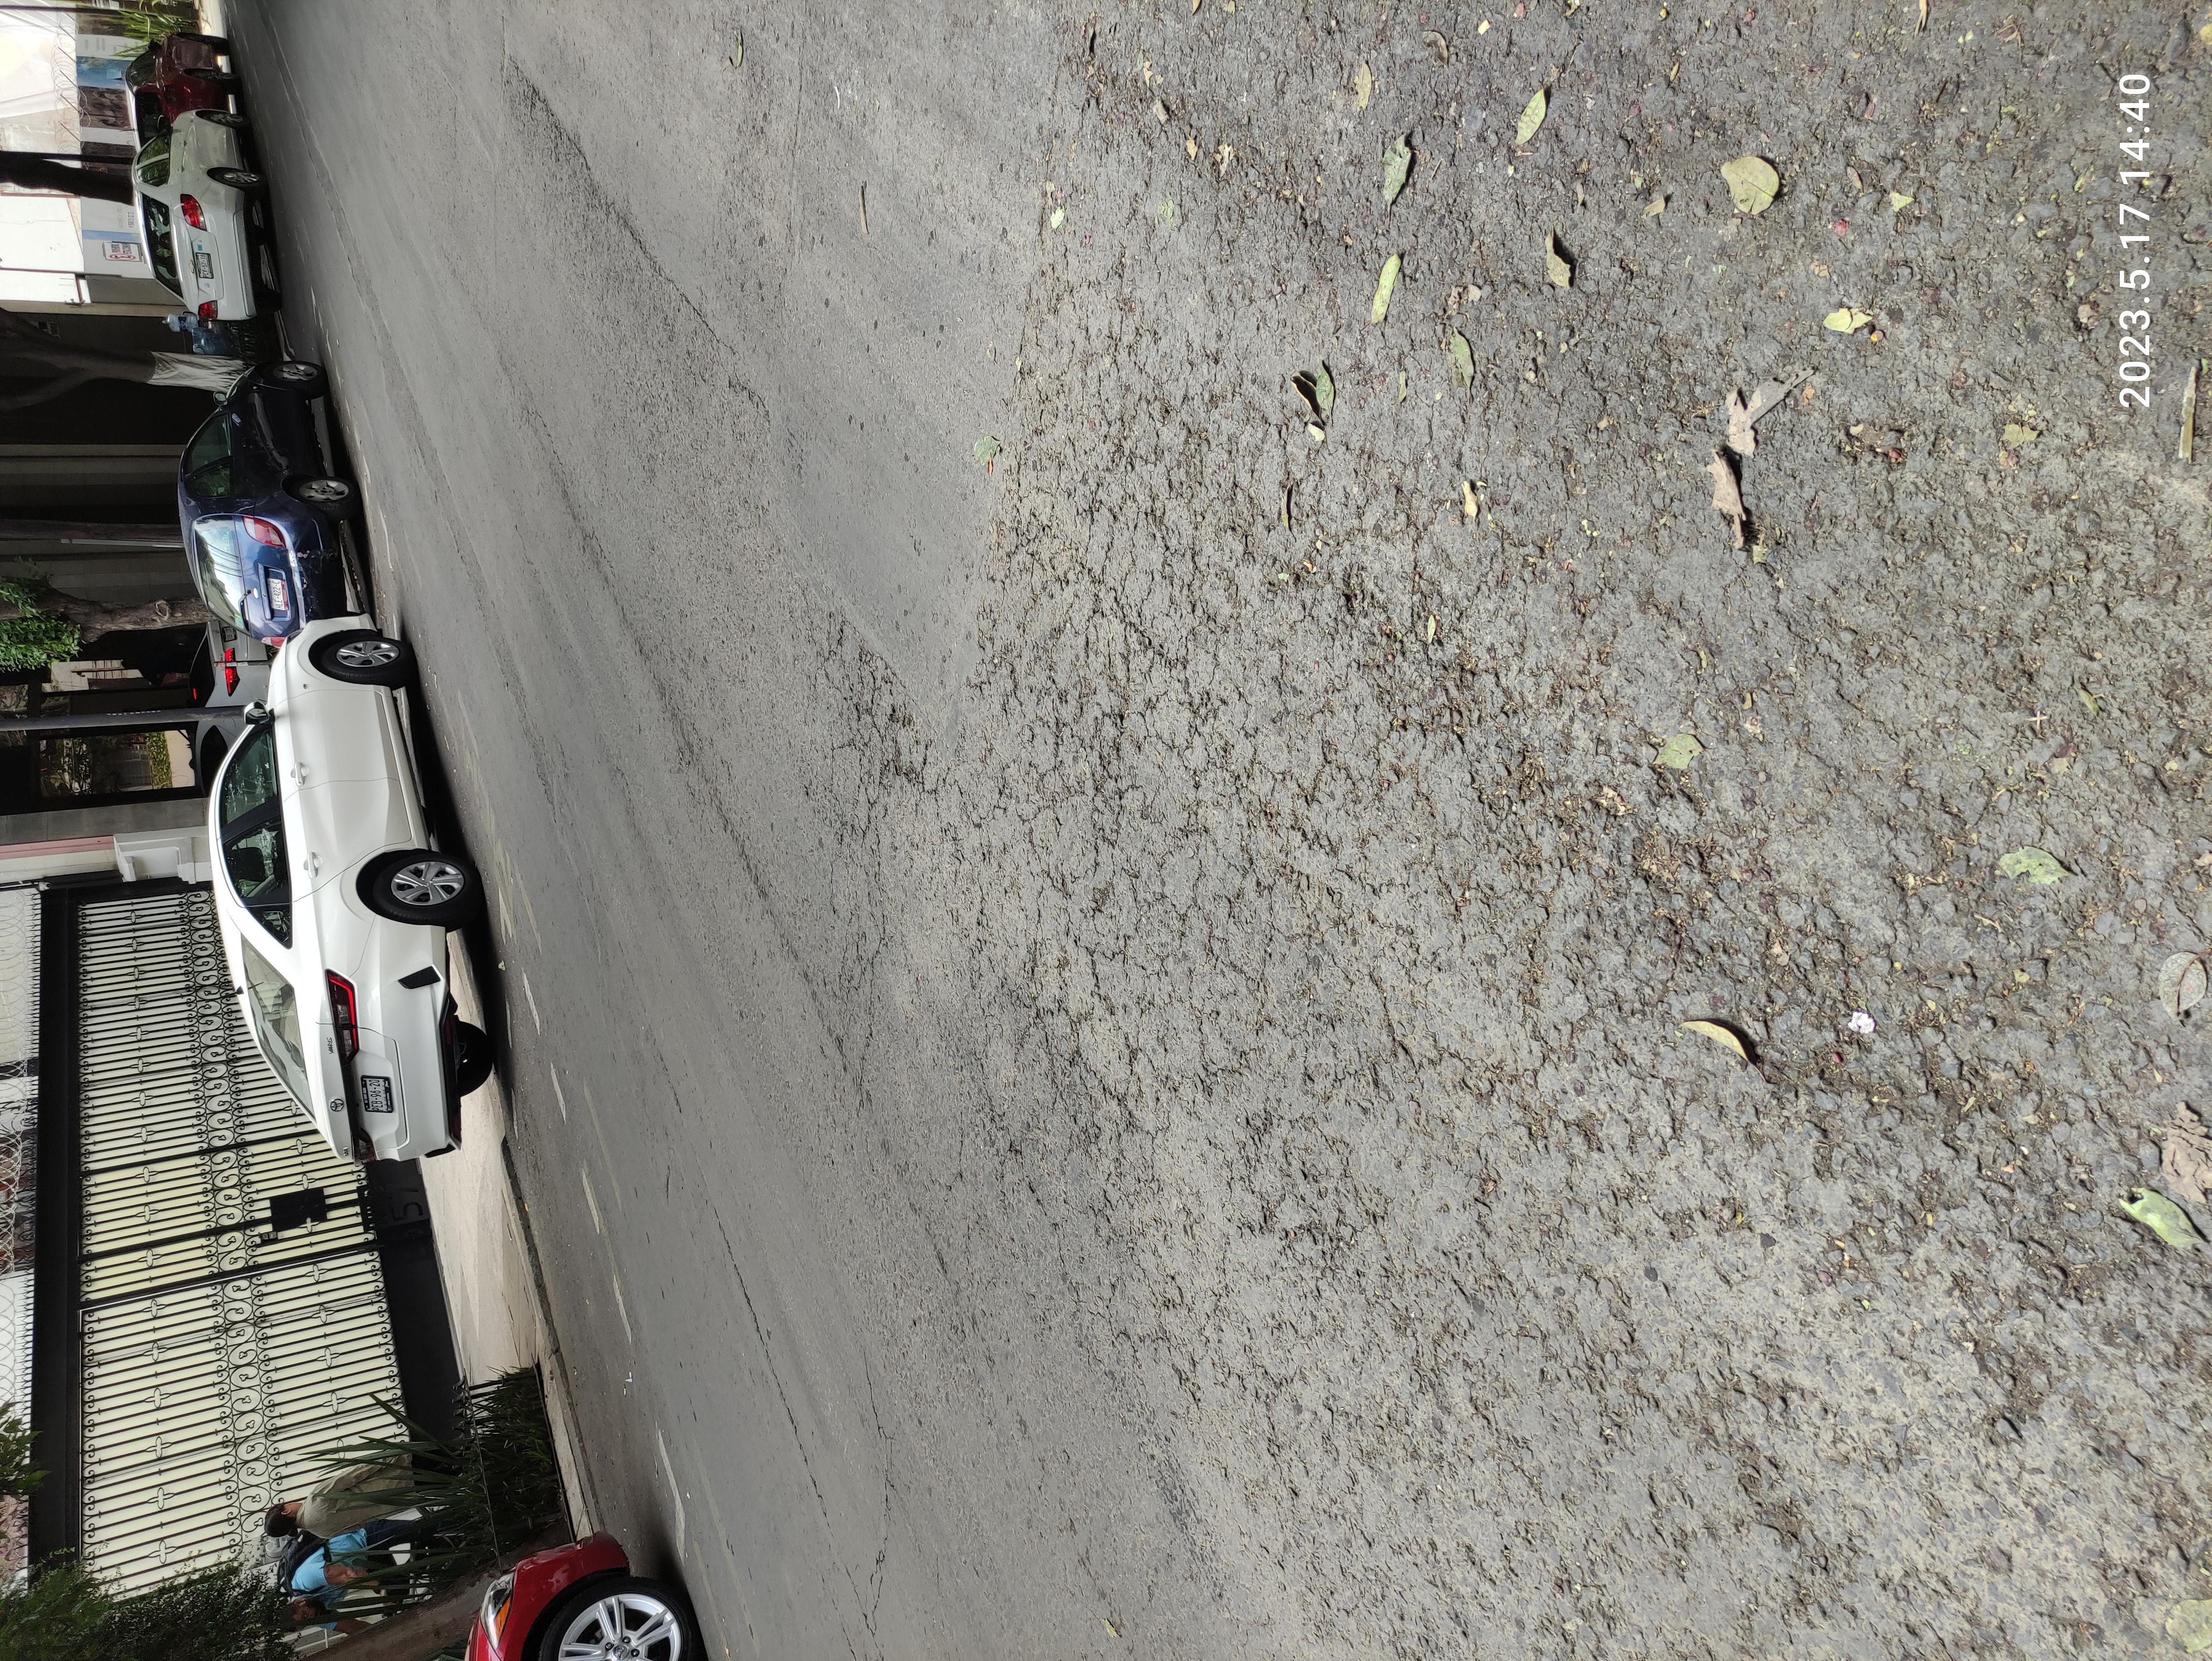alligator-crack: (208, 736, 1895, 1621)
